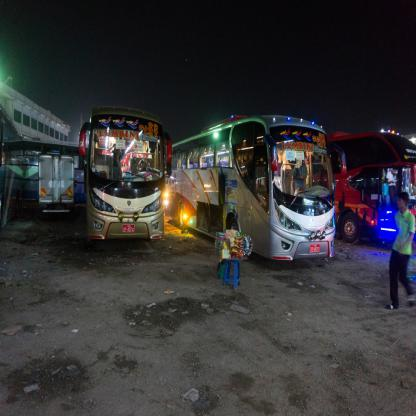Bus: (166, 113, 338, 266), (79, 103, 172, 250), (324, 131, 415, 244)
